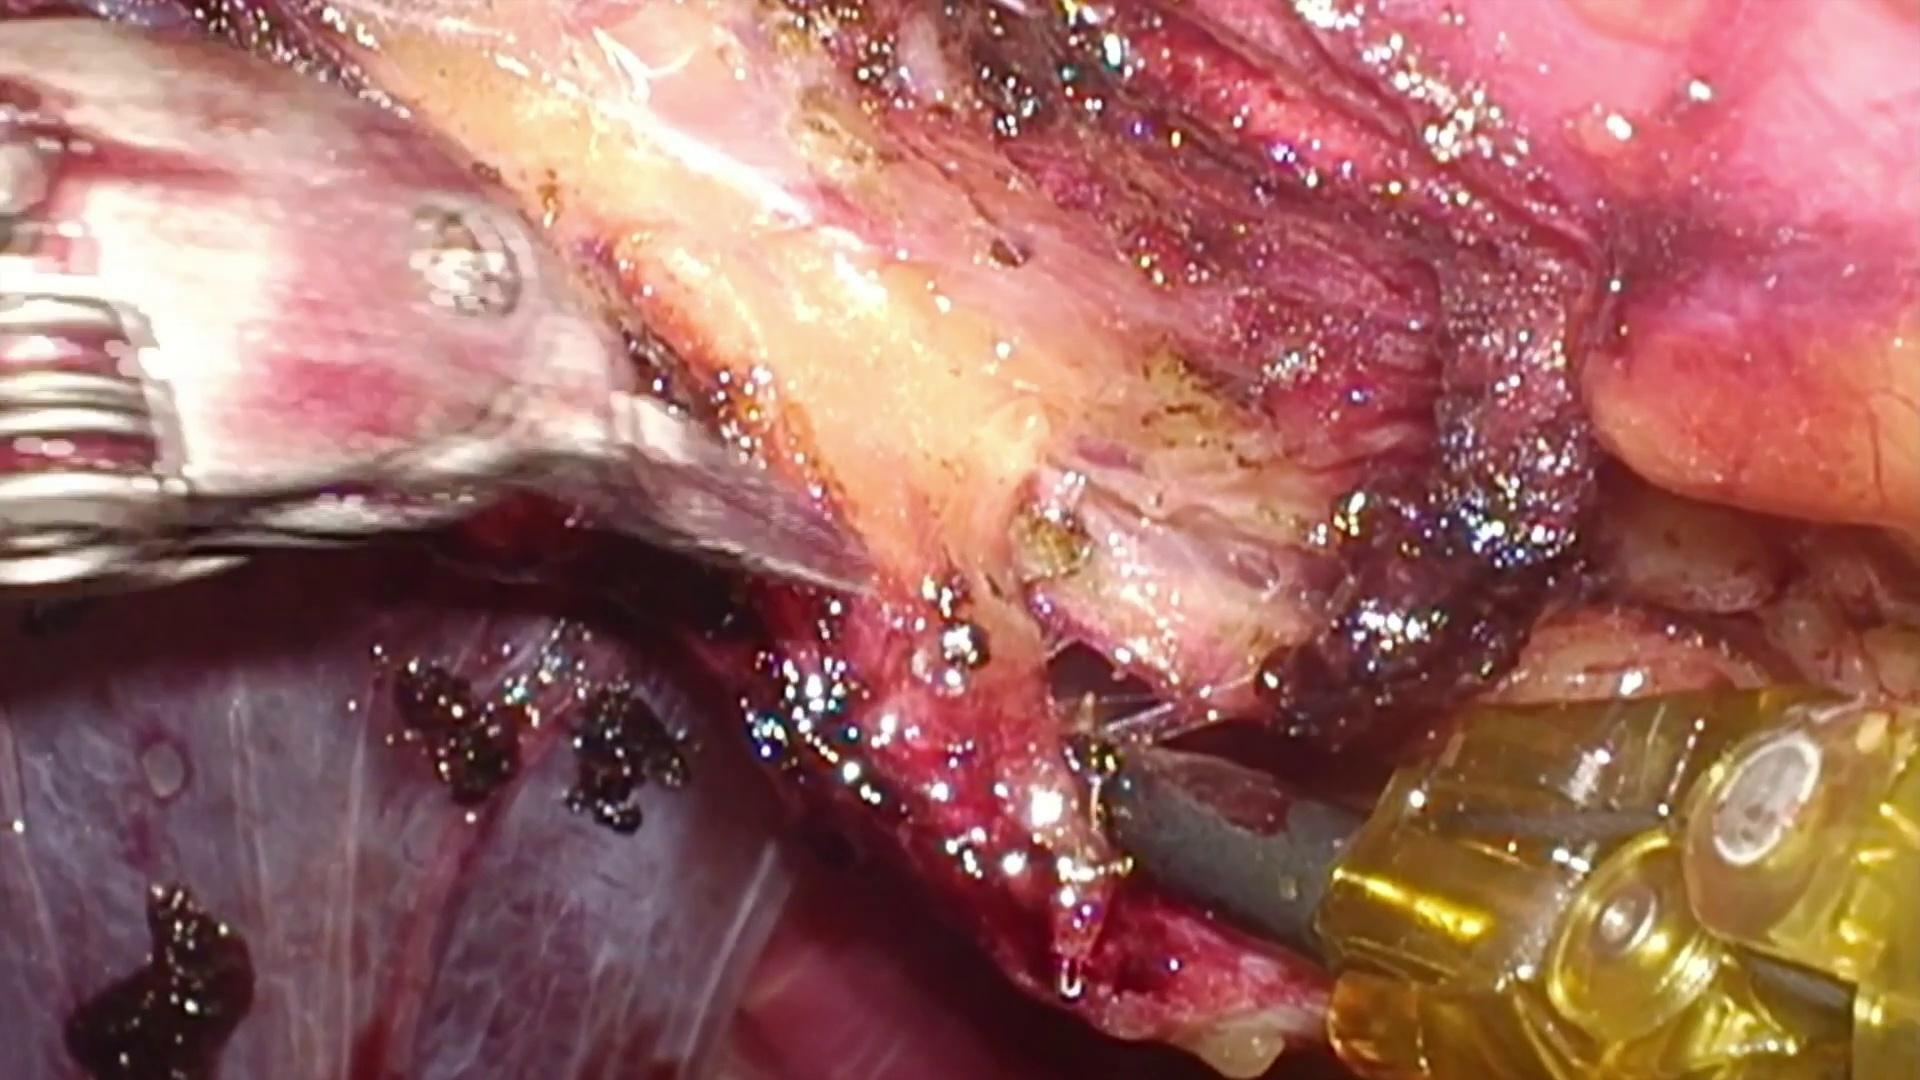Cautery_Spatula: (1080, 728, 1350, 964)
Debakey: (508, 285, 898, 615)
